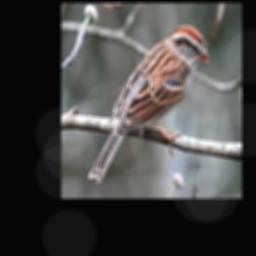Sparrow: (88, 24, 212, 183)
